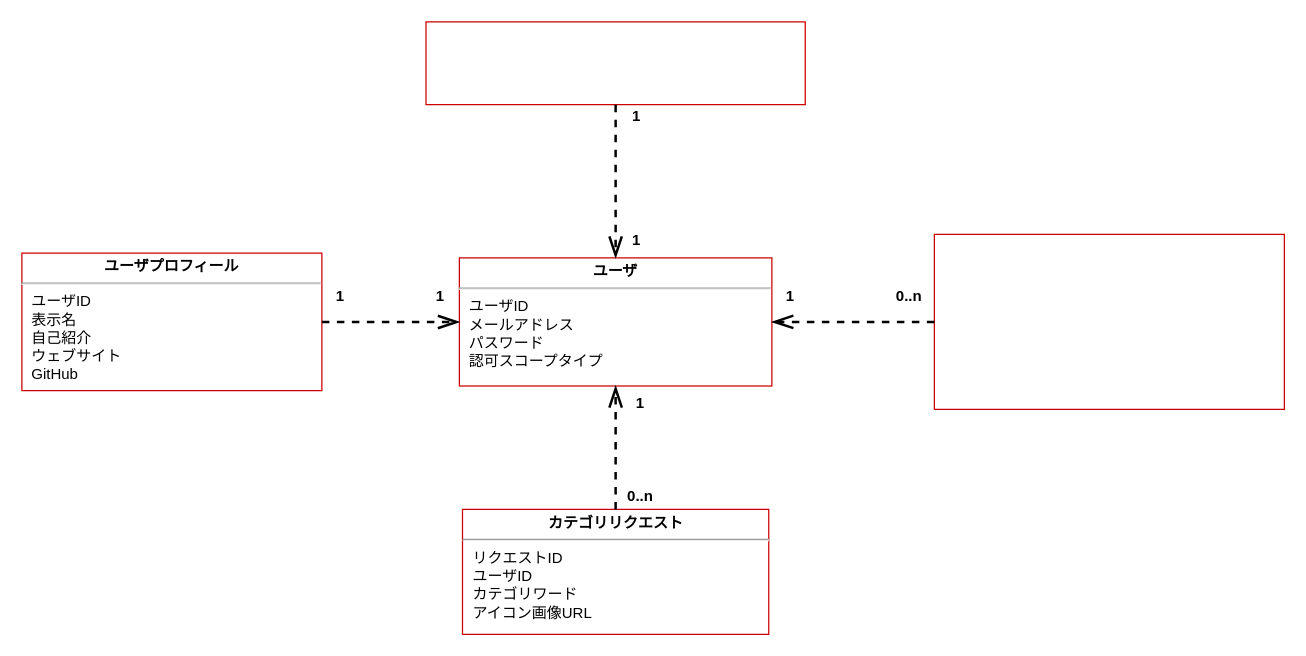
Image size: 1306x656. Some labels were removed from this diagram. The centre of each missing label's shape, as x and y in pixels:
"fooLikedArticleIndex :いいねした記事インデックス 記事インデックス ユーザID" belongs at [615,63].
"記事 記事ID ユーザID タイトル カテゴリタイプ 内容 公開状態 いいね数" belongs at [1108,321].
